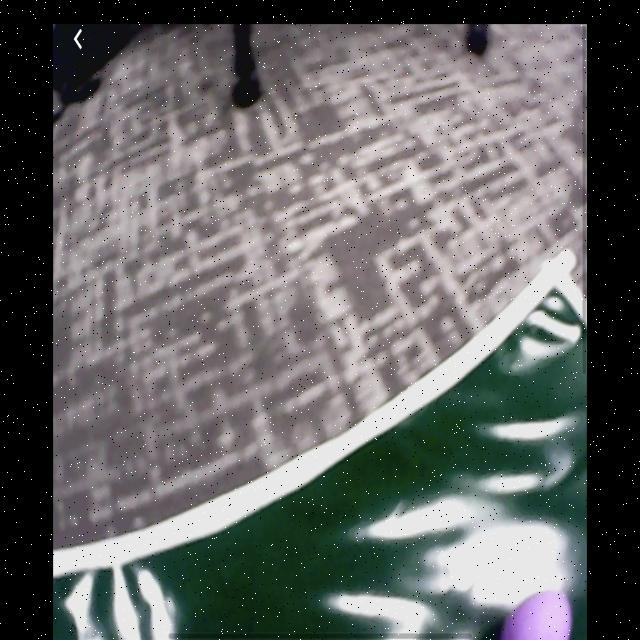ball: (501, 591, 573, 640)
